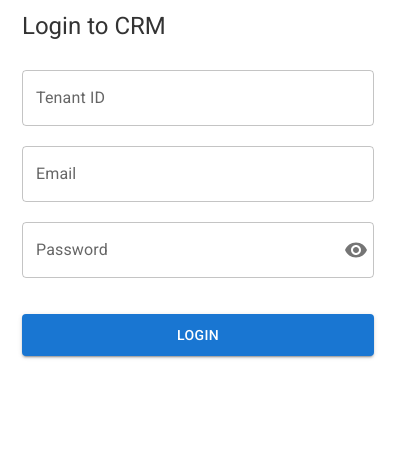
Test: LoginForm Component › Form Validation › should require all fields
Click the button "Login" at (198, 335), box left=22, top=314, right=374, bottom=356
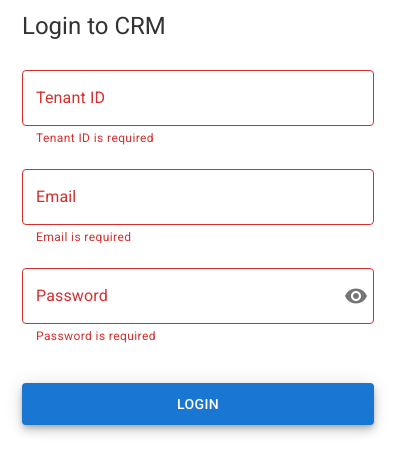
expect the text "Tenant ID is required" is shown 3 times: met, box left=36, top=131, right=154, bottom=145; left=36, top=230, right=131, bottom=244; left=36, top=329, right=156, bottom=343
